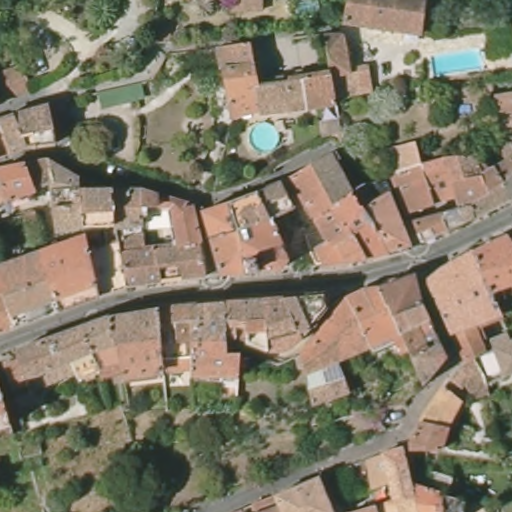pool: (422, 47, 492, 80), (245, 118, 281, 157)
